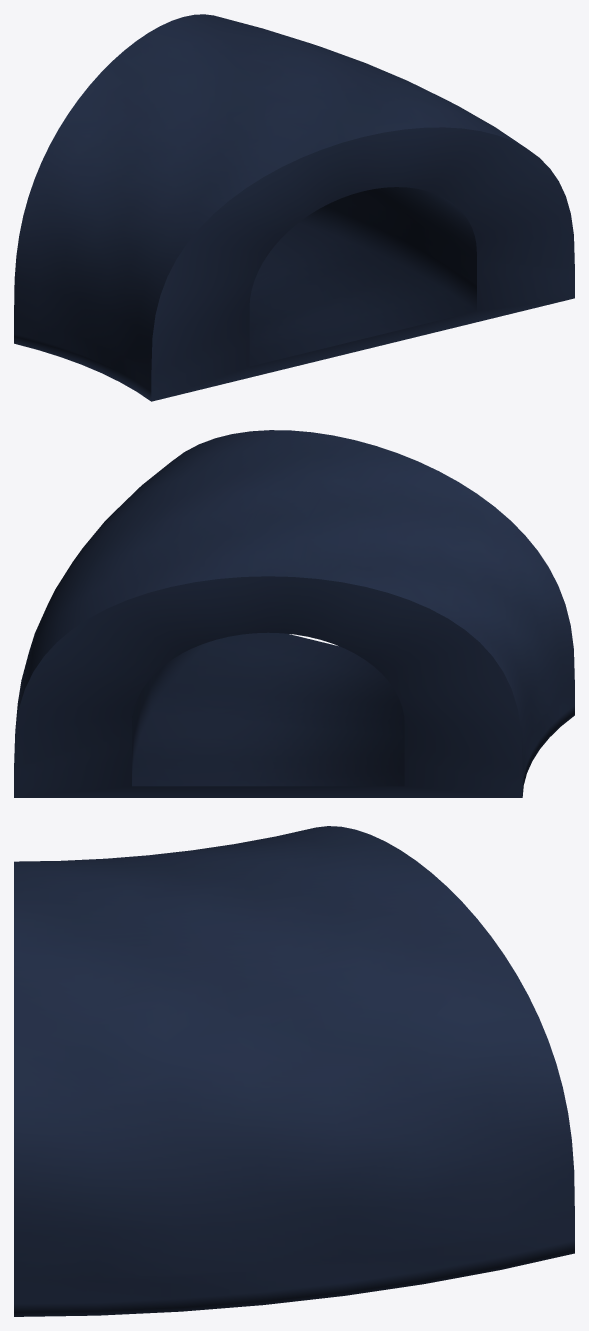
The model's file is curve_left_30_terrain_lod1.glb.
3 renders of one model, top to bottom at view 1: azimuth 30°, elevation 25°; view 2: azimuth 150°, elevation 25°; view 3: azimuth 270°, elevation 25°, orthographic. The views are drawn at different scales.
Visible parts, largest first — view 1: TerrainRoof.007; view 2: TerrainRoof.007; view 3: TerrainRoof.007.
Part boxes in pixels (left/top/right/bottom): TerrainRoof.007: left=14, top=14, right=574, bottom=401; TerrainRoof.007: left=14, top=430, right=574, bottom=797; TerrainRoof.007: left=14, top=826, right=574, bottom=1316.
Bounding box in the file's own units: 31.32 × 13.65 × 25.1.
